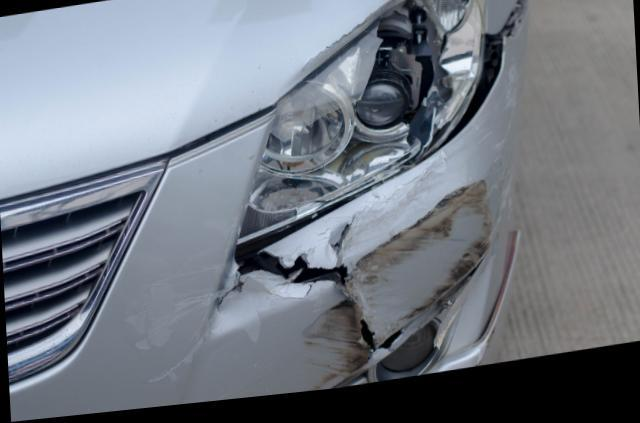crack: (215, 255, 346, 318), (358, 327, 404, 361), (329, 231, 351, 257)
dislocated part: (0, 0, 530, 422)
lamp broken: (235, 0, 488, 246)
scratch: (348, 74, 524, 351), (302, 290, 368, 398)
